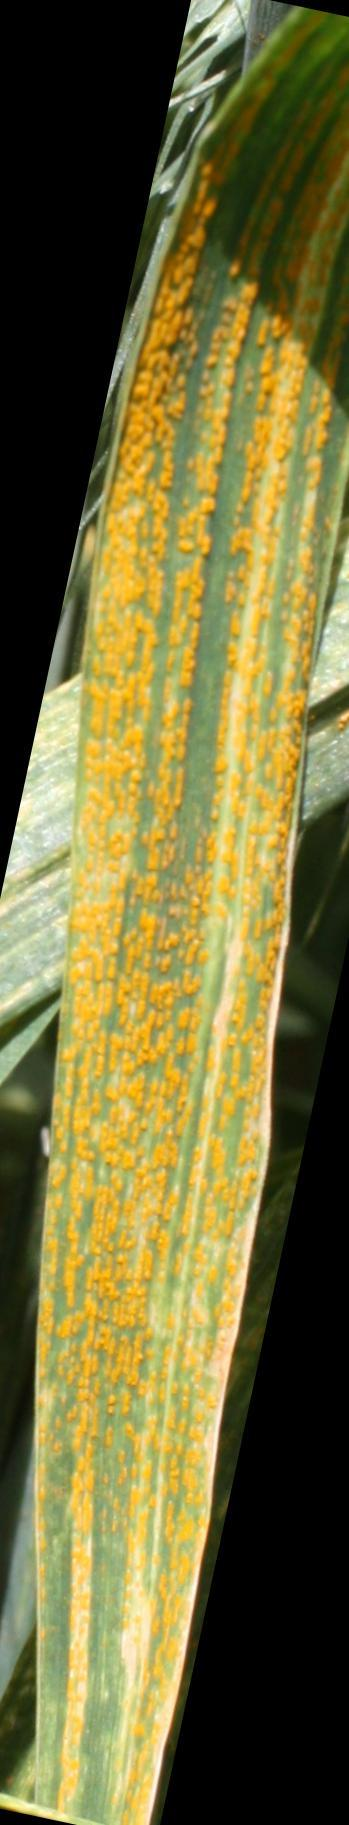Wheat: (90, 222, 348, 952), (36, 919, 254, 1457)
